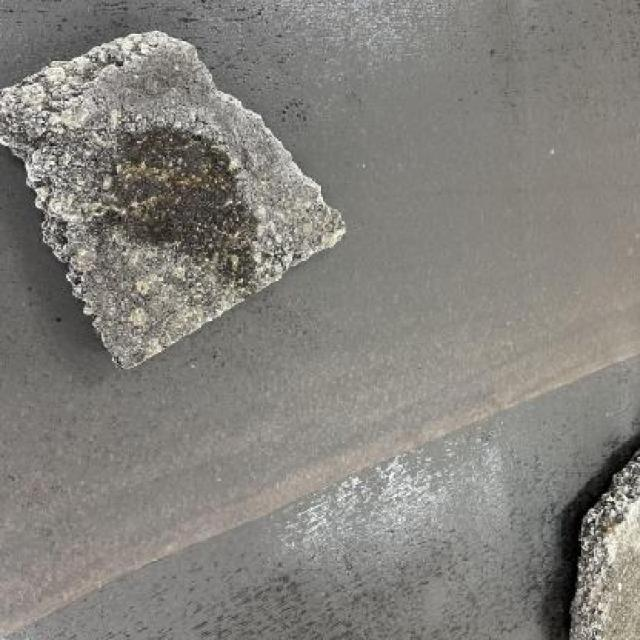Road Debris: (91, 120, 267, 298), (586, 552, 636, 636)
